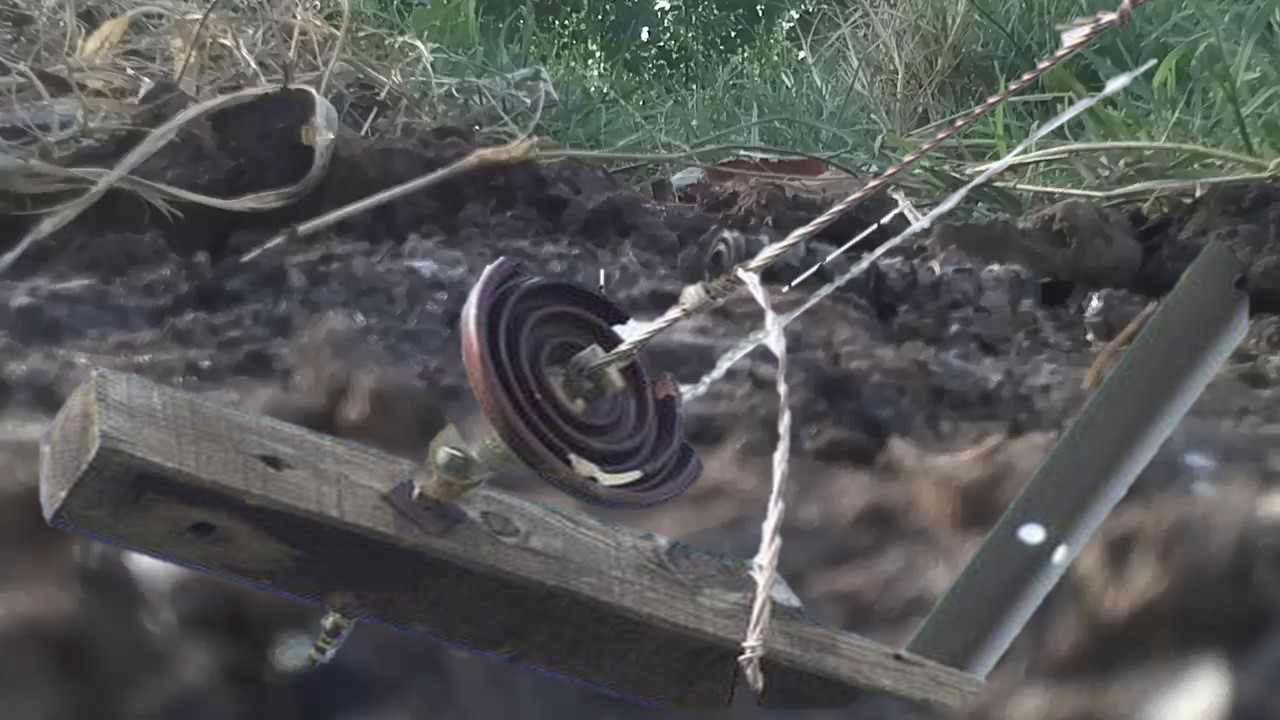defect_disc: (456, 245, 714, 522)
